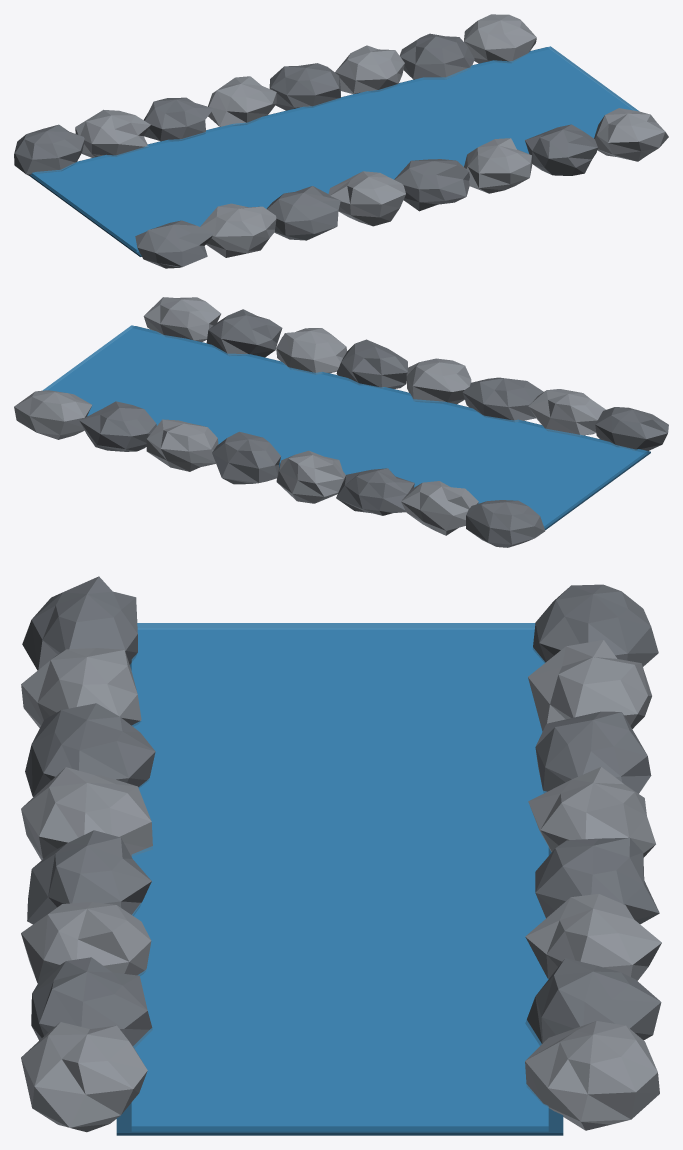
Rendered from stream_section_4m.glb.
The picture shows the model from 3 angles, top to bottom: view 1: azimuth 30°, elevation 25°; view 2: azimuth 150°, elevation 25°; view 3: azimuth 270°, elevation 25°; orthographic projection. The views are drawn at different scales.
Visible parts, largest first — view 1: stream_section_4m; view 2: stream_section_4m; view 3: stream_section_4m.
Boxes of the visible parts, x1,y1,x2,y2 form: stream_section_4m: (14, 14, 668, 268); stream_section_4m: (14, 297, 668, 547); stream_section_4m: (21, 576, 661, 1135).
Size of the model in its own units: 4.08 by 0.32 by 2.15.
